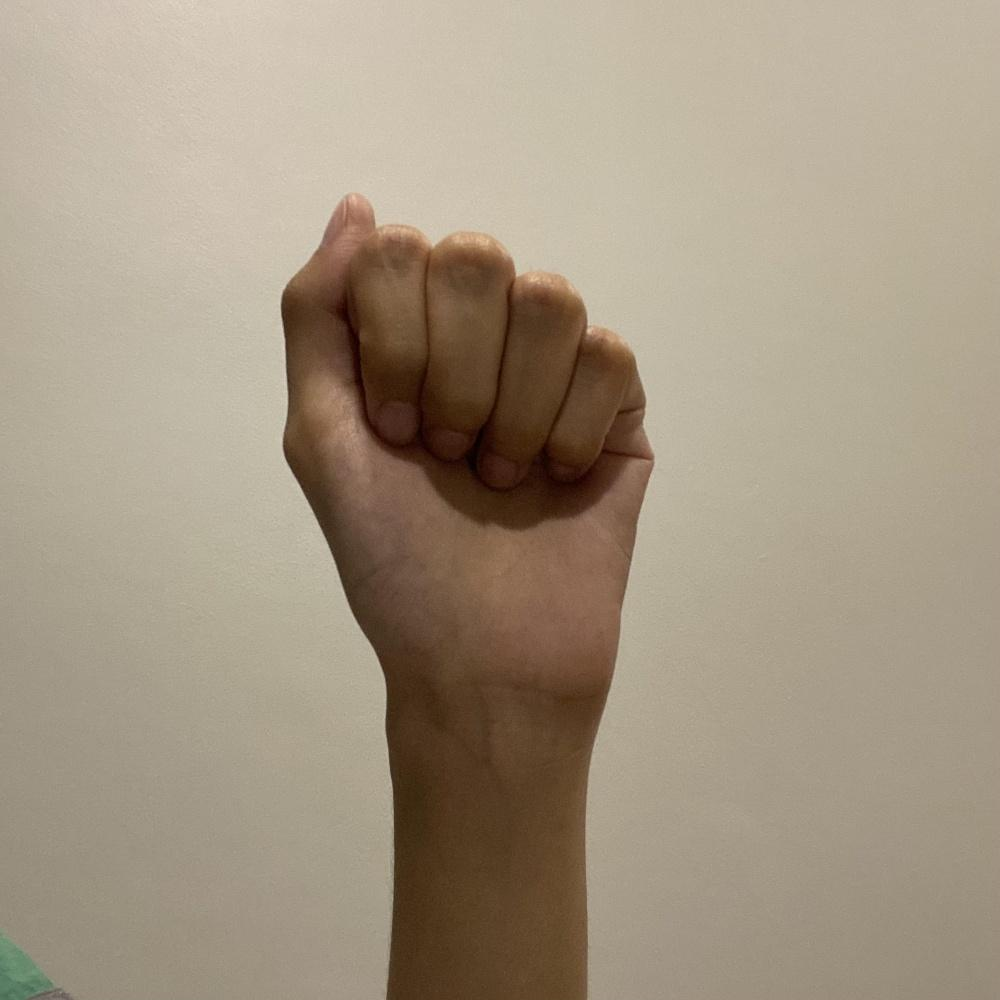a: (274, 186, 655, 706)
